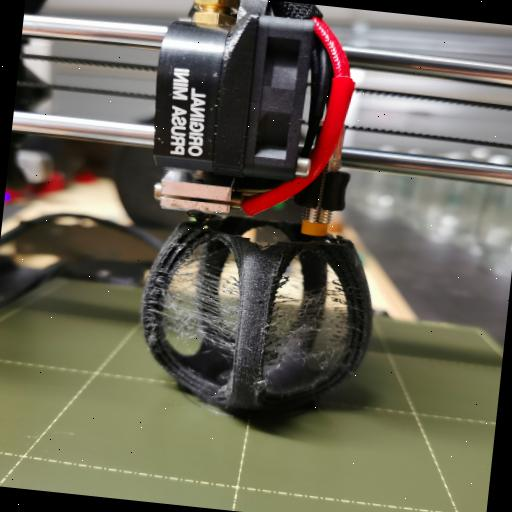stringing: (252, 298, 366, 368), (152, 268, 246, 346)
